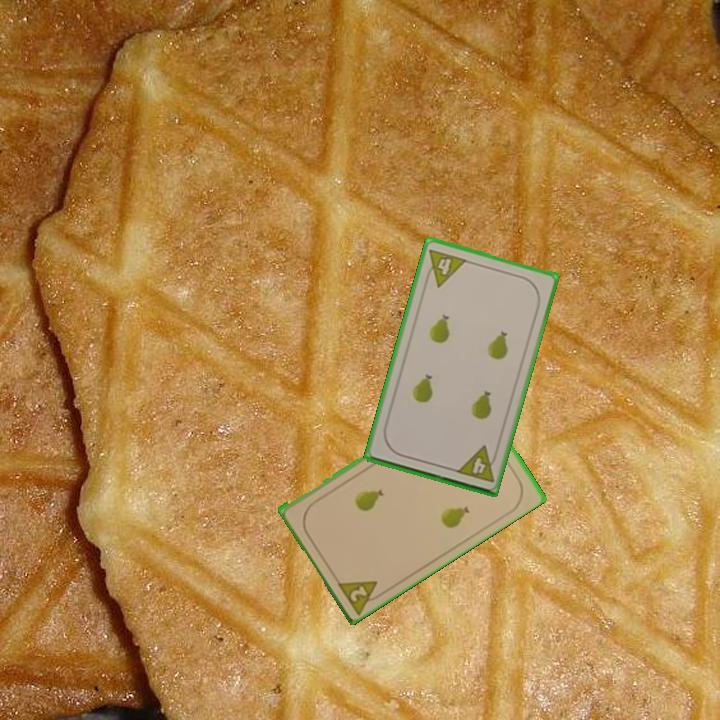2p: (333, 576, 388, 616)
4p: (421, 245, 470, 290), (453, 442, 501, 485)
